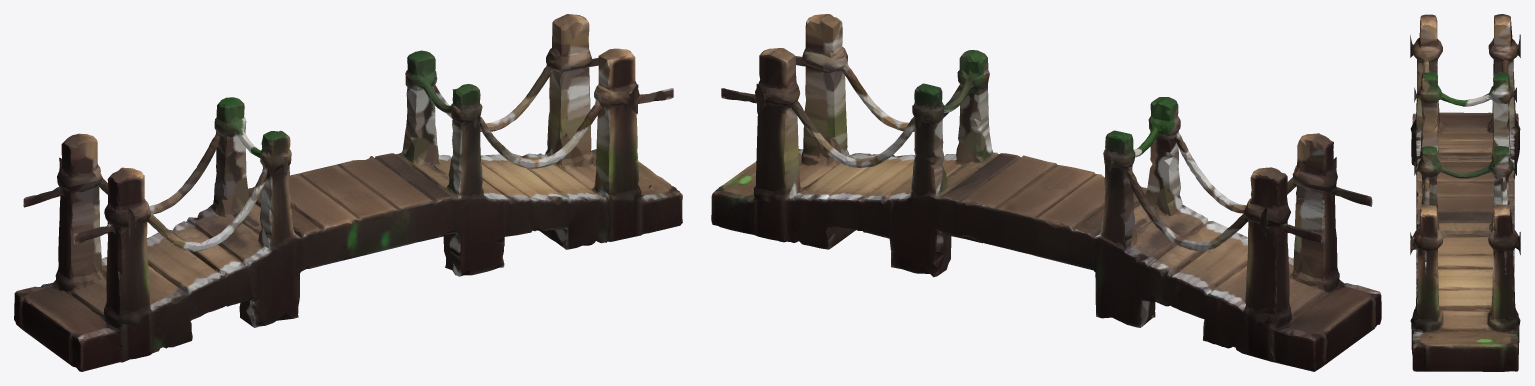
The model's file is bridge.glb.
3 renders of one model, left to right at view 1: azimuth 30°, elevation 25°; view 2: azimuth 150°, elevation 25°; view 3: azimuth 270°, elevation 25°, orthographic. The views are drawn at different scales.
Visible parts, largest first — view 1: Rodin_bridge; view 2: Rodin_bridge; view 3: Rodin_bridge.
Boxes of the visible parts, x1,y1,x2,y2 form: Rodin_bridge: (14, 14, 682, 371); Rodin_bridge: (711, 14, 1381, 371); Rodin_bridge: (1410, 14, 1520, 371).
Bounding box in the file's own units: 1.89 × 0.5453 × 0.376.
Materials: 1 (1 with a texture image).
